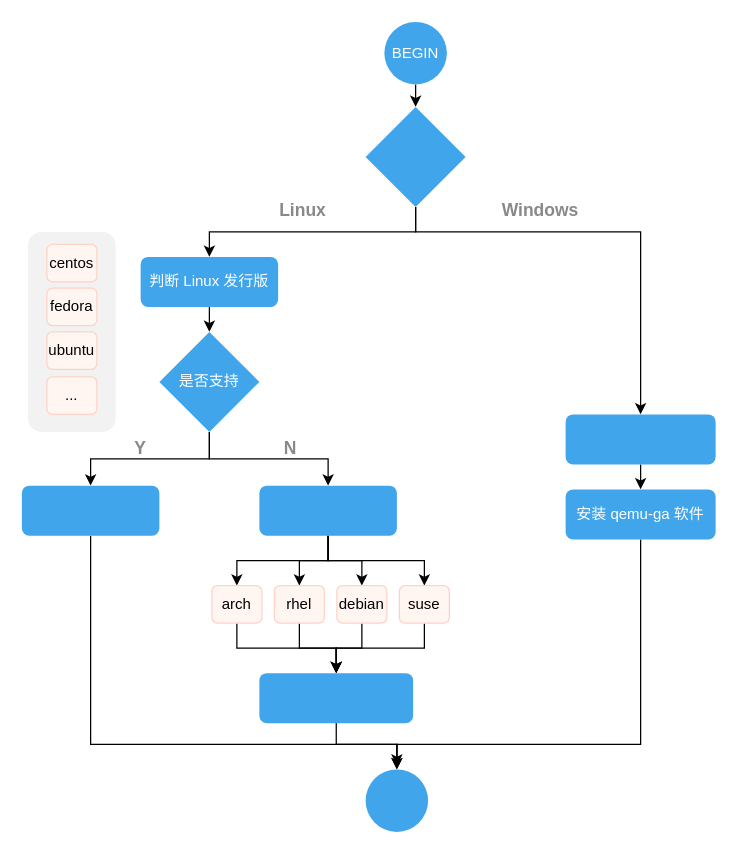
This 736x853 diagram has some shape labels left out. Each missing label, with the centre of its shape:
"END" belongs at (x=396, y=800).
"win/linux" belongs at (x=415, y=156).
"判断 Linux 系列" belongs at (x=327, y=510).
"安装 virtio serial 驱动" belongs at (x=640, y=439).
"安装对应的软件包" belongs at (x=90, y=510).
"安装每个系列通用的包" belongs at (x=335, y=697).
